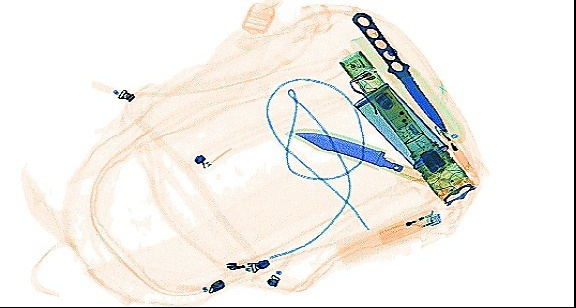knife: (286, 127, 463, 198), (350, 11, 447, 133)
lighter: (428, 114, 480, 187), (377, 208, 440, 244)
zippooil: (354, 78, 451, 171)
